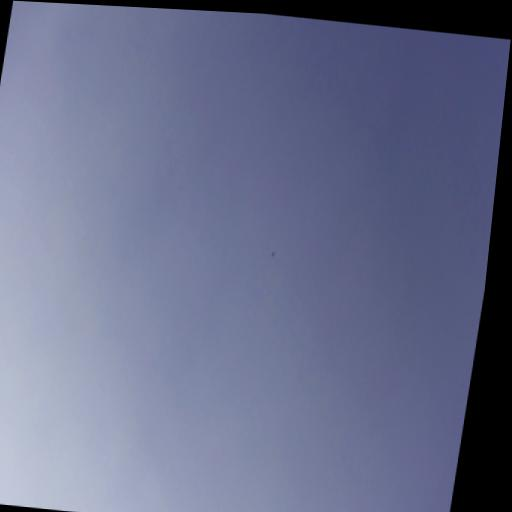drones: (269, 250, 277, 260)
